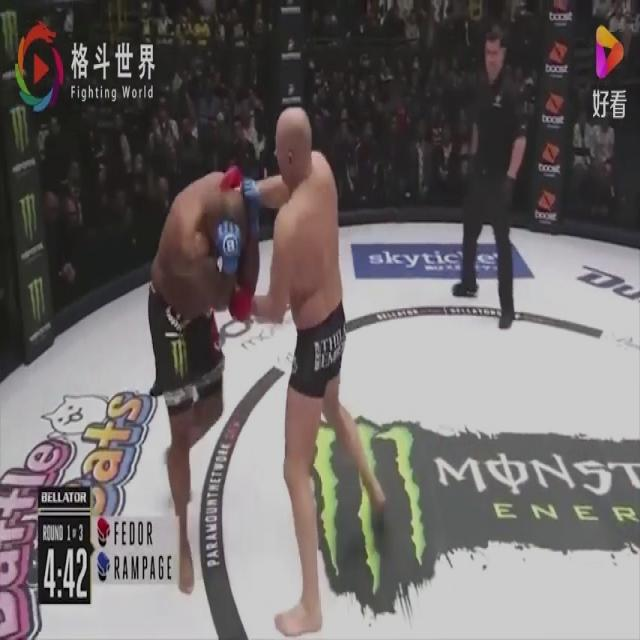fight: (146, 89, 387, 639), (454, 14, 530, 335)
